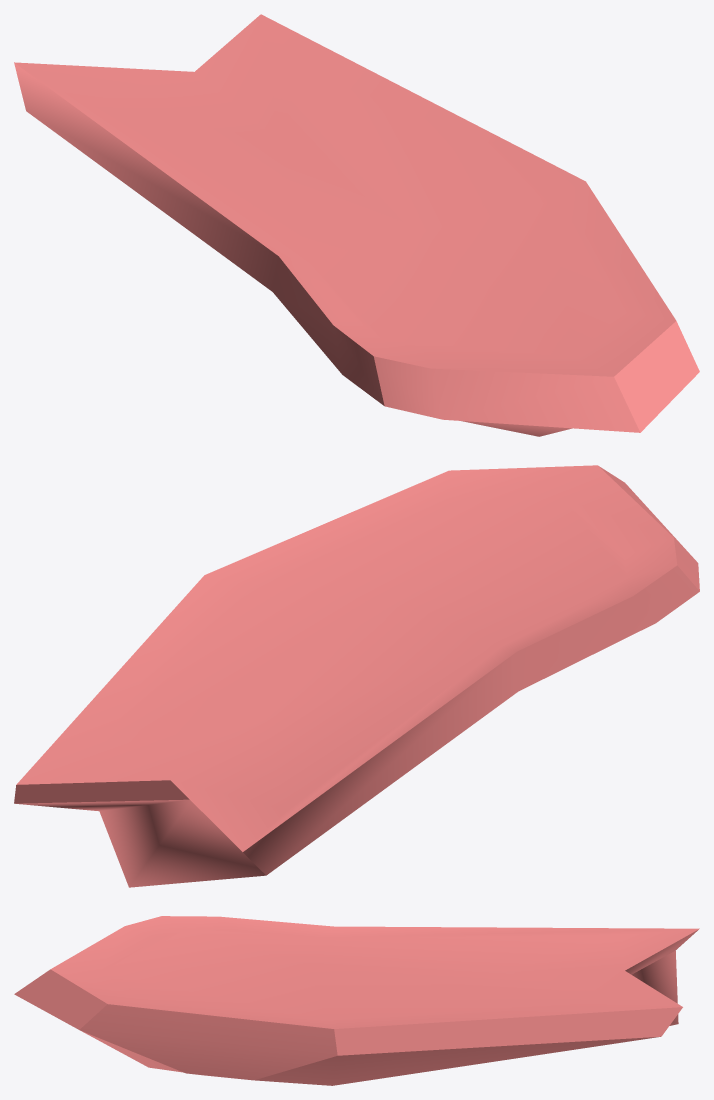
File: FloorEarth1.fbx
3 views of the same model, one above another, from view 1: azimuth 30°, elevation 25°; view 2: azimuth 150°, elevation 25°; view 3: azimuth 270°, elevation 25° (orthographic). The views are drawn at different scales.
Visible parts, largest first — view 1: FloorEarth1; view 2: FloorEarth1; view 3: FloorEarth1.
Part boxes in pixels (<box>): FloorEarth1: <box>14,14,699,436</box>; FloorEarth1: <box>14,465,699,887</box>; FloorEarth1: <box>14,916,699,1085</box>.
Size of the model in its own units: 742 by 260 by 1845.
